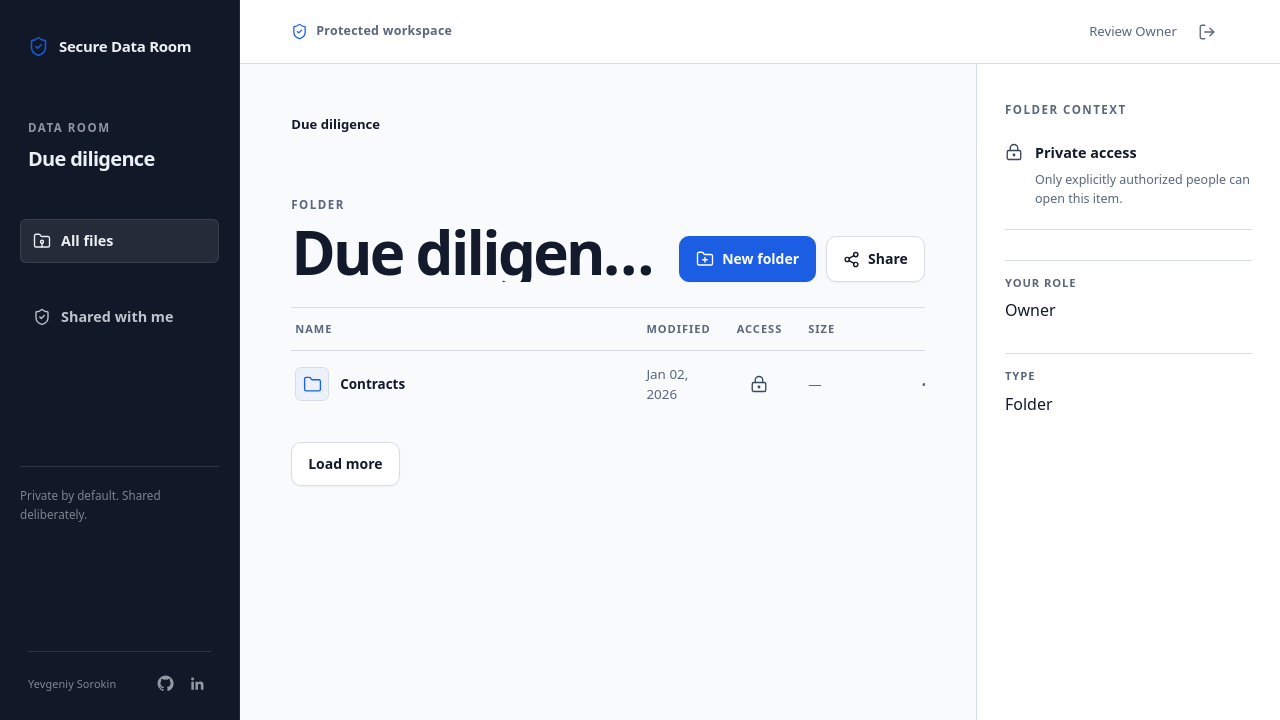
Test: DataRoomRoute › renders an owner folder, preserves API order, and appends the next cursor page
Expected: the heading "Due diligence" is shown, [291, 222, 655, 282]
Expected: the text "Contracts" is shown, [340, 374, 405, 394]
Step 1. Click the button "Load more" → click(345, 464), box [291, 442, 400, 486]
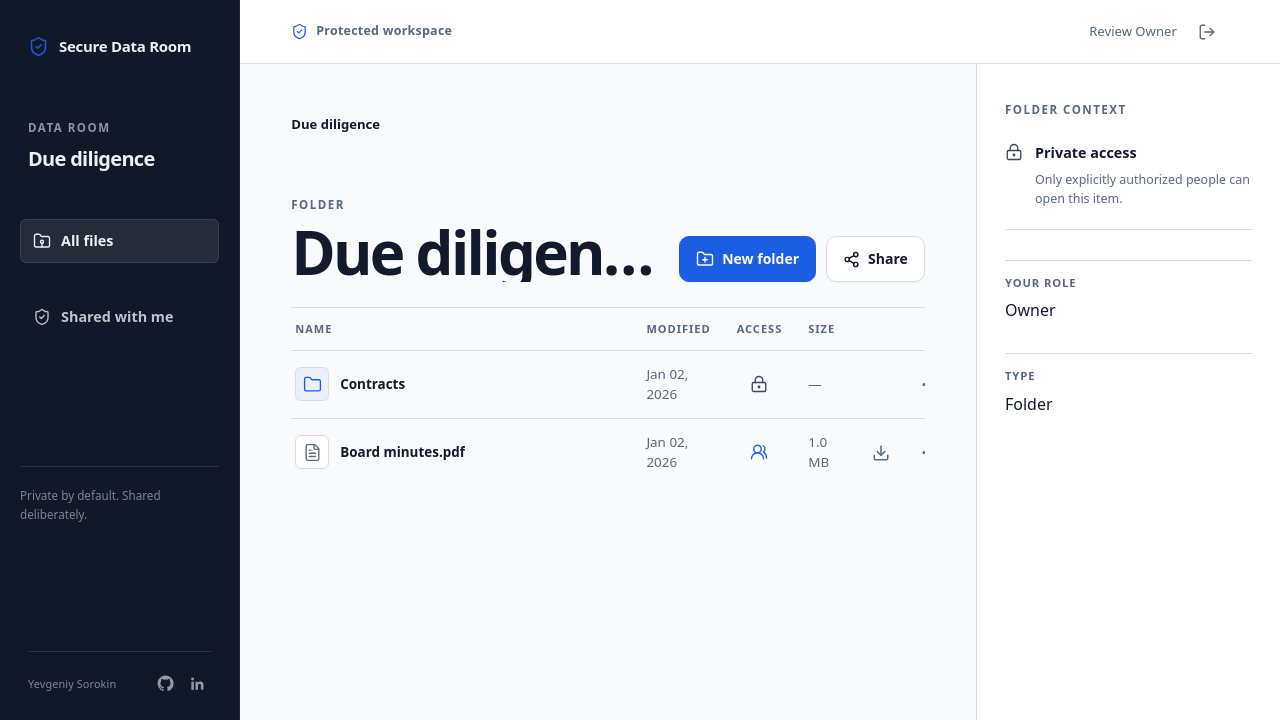
Result: the text "Board minutes.pdf" is shown at [340, 442, 465, 462]
Result: the number of rows is 3 at [291, 308, 925, 350]; [291, 350, 925, 418]; [291, 418, 925, 486]
